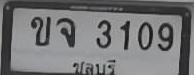0: (137, 21, 152, 49)
1: (119, 20, 129, 48)
3: (95, 19, 110, 48)
9: (157, 22, 172, 50)
A02: (30, 15, 50, 45)
A08: (56, 17, 74, 46)
CBI: (70, 56, 121, 75)
